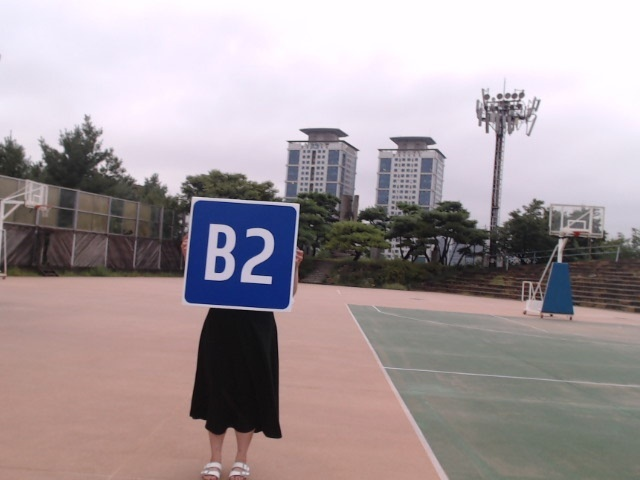delivery_b2: (182, 199, 299, 310)
